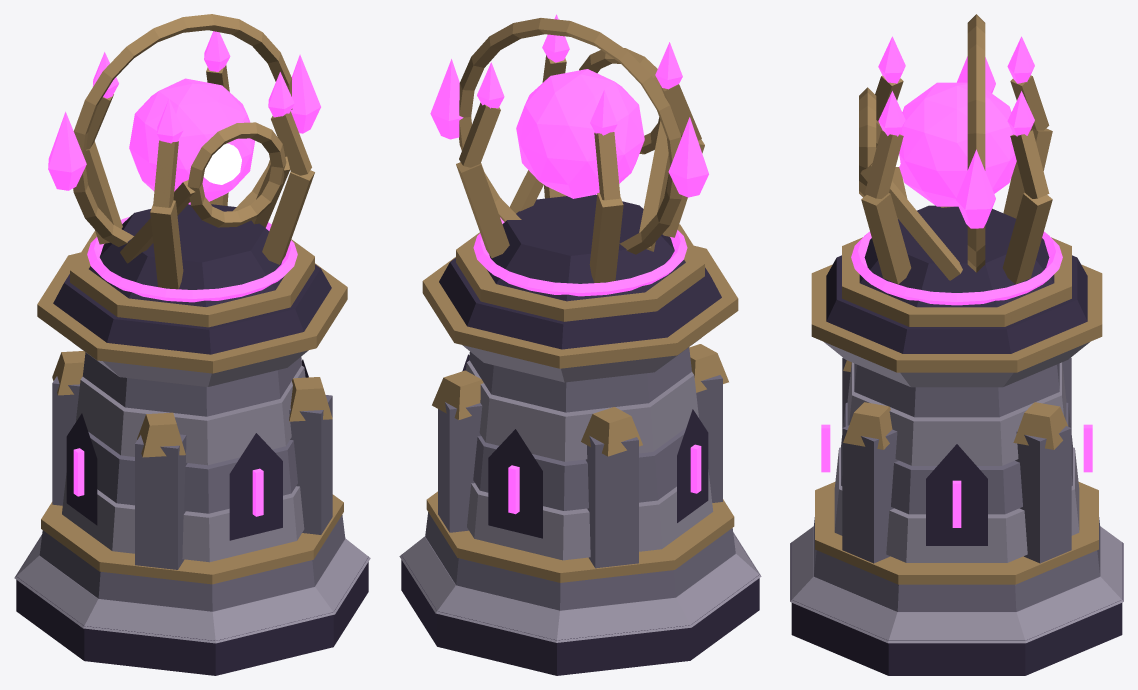
File: Magic_Tower_L2.fbx
The picture shows the model from 3 angles, left to right: view 1: azimuth 30°, elevation 25°; view 2: azimuth 150°, elevation 25°; view 3: azimuth 270°, elevation 25°; orthographic projection.
Visible parts, largest first — view 1: Base_L2, Head_L2; view 2: Base_L2, Head_L2; view 3: Base_L2, Head_L2.
Part boxes in pixels (bbox=[...]): Base_L2: bbox=[14, 252, 370, 675]; Head_L2: bbox=[48, 14, 320, 327]; Base_L2: bbox=[399, 245, 761, 675]; Head_L2: bbox=[430, 14, 708, 321]; Base_L2: bbox=[790, 255, 1123, 675]; Head_L2: bbox=[842, 14, 1071, 326].
Bounding box in the file's own units: 1.72 × 3.3 × 1.72.
